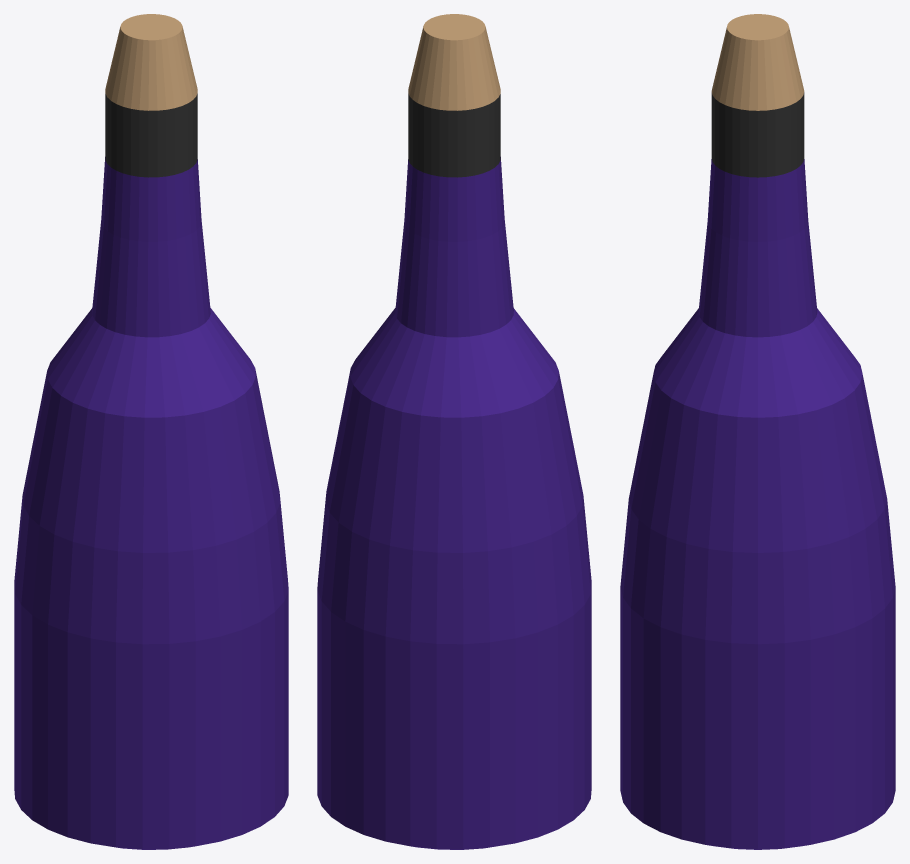
The model's file is WineBottle5WIP.fbx.
3 views of the same model, side by side, from view 1: azimuth 30°, elevation 25°; view 2: azimuth 150°, elevation 25°; view 3: azimuth 270°, elevation 25° (orthographic).
Visible parts, largest first — view 1: Cylinder; view 2: Cylinder; view 3: Cylinder.
Boxes of the visible parts, x1=… form: Cylinder: x1=14, y1=14, x2=288, y2=849; Cylinder: x1=317, y1=14, x2=591, y2=849; Cylinder: x1=620, y1=14, x2=895, y2=849.
Bounding box in the file's own units: 24.17 × 75.13 × 24.17.
